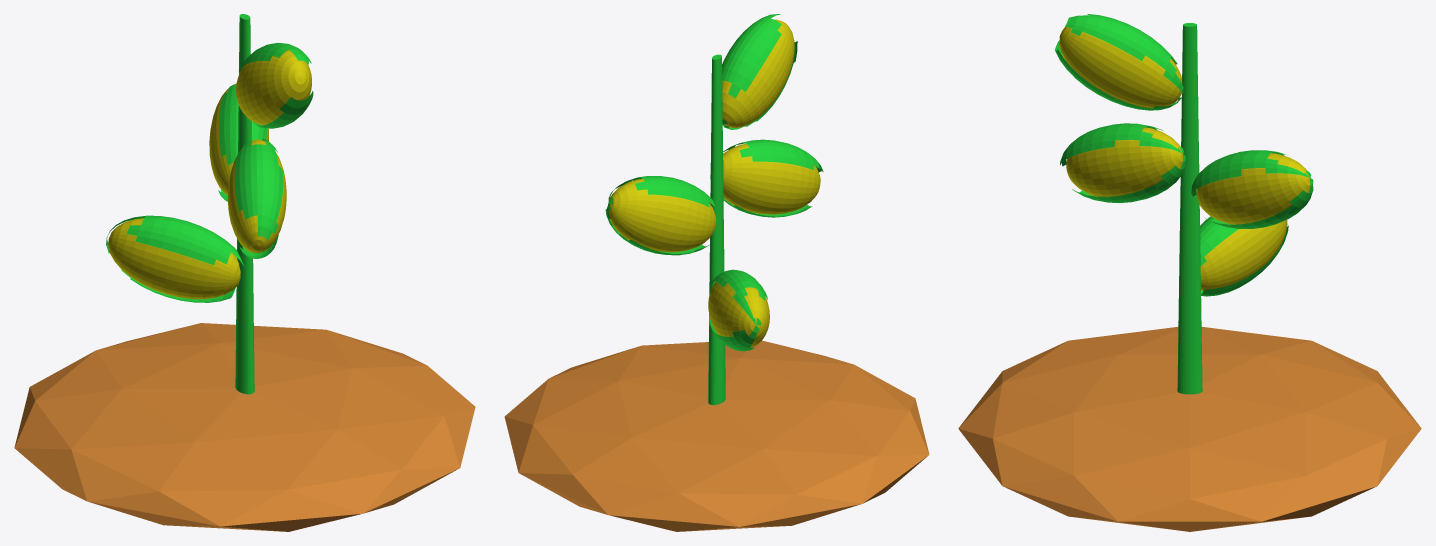
File: corn.fbx
3 views of the same model, side by side, from view 1: azimuth 30°, elevation 25°; view 2: azimuth 150°, elevation 25°; view 3: azimuth 270°, elevation 25° (orthographic). The views are drawn at different scales.
Visible parts, largest first — view 1: Icosphere, Sphere.001, Sphere.003, Sphere, Cylinder, Sphere.002; view 2: Icosphere, Sphere.002, Sphere.003, Sphere, Cylinder, Sphere.001; view 3: Icosphere, Sphere, Sphere.003, Sphere.002, Cylinder, Sphere.001.
Part boxes in pixels (x1,y1,x2,y2): Icosphere: (14,323,475,531); Sphere.001: (106,215,244,302); Sphere.003: (227,139,286,258); Sphere: (236,43,313,128); Cylinder: (235,14,254,394); Sphere.002: (209,83,268,201); Icosphere: (504,340,929,531); Sphere.002: (605,176,716,255); Sphere.003: (710,139,823,217); Sphere: (722,14,797,129); Cylinder: (708,54,725,405); Sphere.001: (708,269,769,351); Icosphere: (958,327,1421,531); Sphere: (1055,14,1183,110); Sphere.003: (1060,123,1185,202); Sphere.002: (1191,150,1313,228); Cylinder: (1177,23,1202,394); Sphere.001: (1200,216,1288,296).
Bounding box in the file's own units: 75.78 × 84.98 × 79.68.
